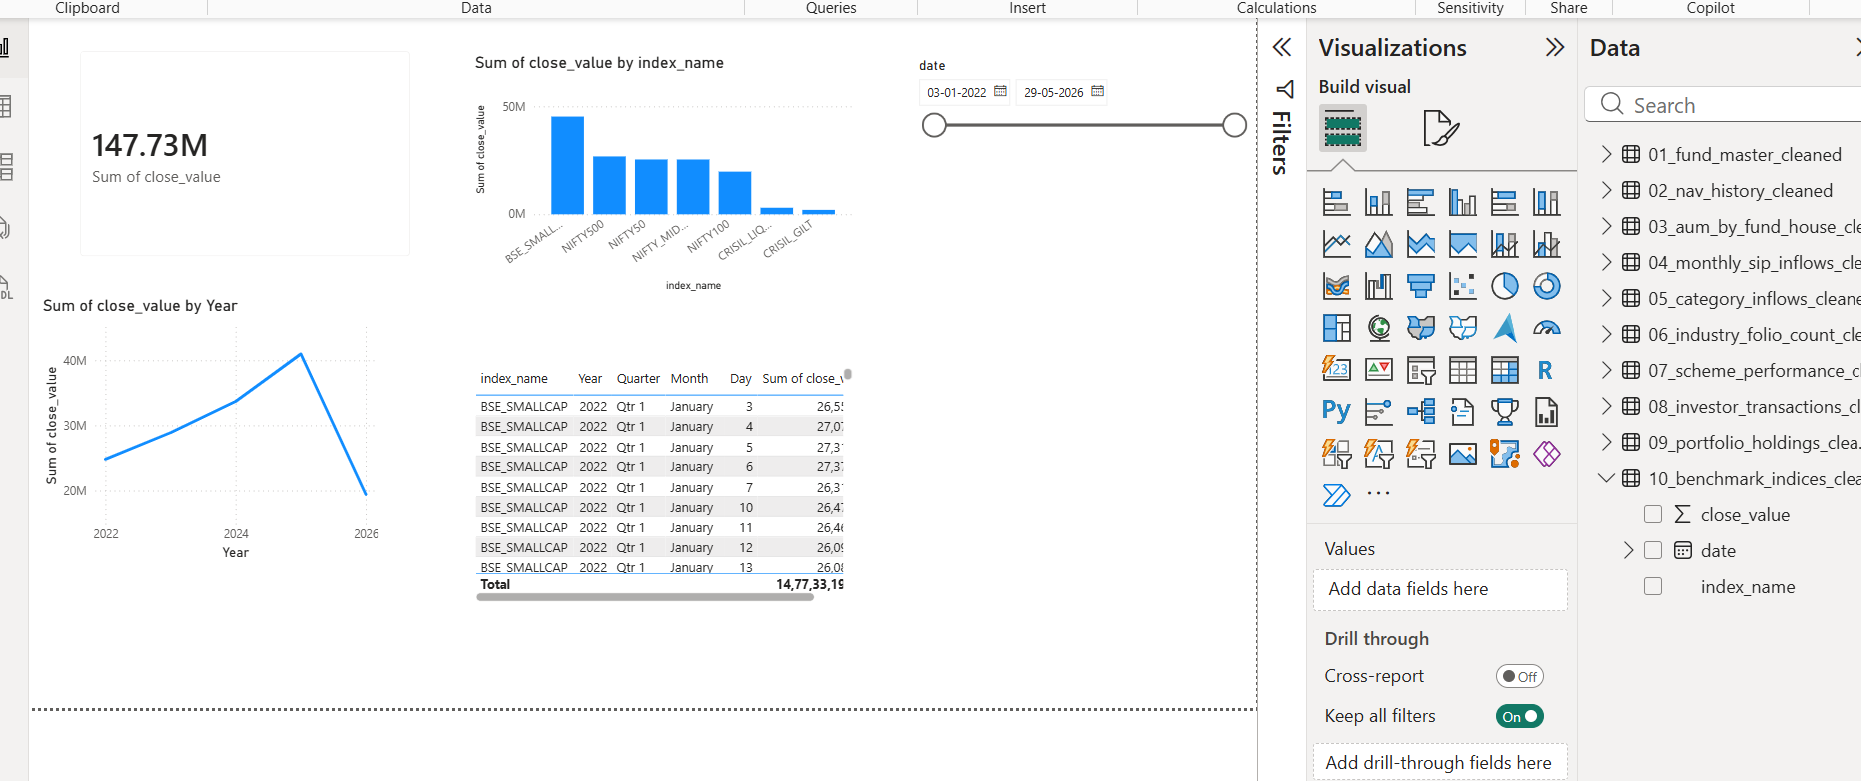

This screenshot's page, from the dashboard's own definition file:
{"tool":"powerbi","page":{"name":"BENCHMARK_ANALYSIS","canvas":[1280,720],"ordinal":4},"visuals":[{"type":"cardVisual","fields":{"Data":["Sum(10_benchmark_indices_cleaned.close_value)"]},"box":[36,17.2,378.5,248.7],"z":0},{"type":"lineChart","fields":{"Category":["10_benchmark_indices_cleaned.date.Variation.Date Hierarchy.Year","10_benchmark_indices_cleaned.date.Variation.Date Hierarchy.Quarter","10_benchmark_indices_cleaned.date.Variation.Date Hierarchy.Month","10_benchmark_indices_cleaned.date.Variation.Date Hierarchy.Day"],"Y":["Sum(10_benchmark_indices_cleaned.close_value)"]},"box":[9.4,289.4,359.8,280],"z":1},{"type":"clusteredColumnChart","fields":{"Category":["10_benchmark_indices_cleaned.index_name"],"Y":["Sum(10_benchmark_indices_cleaned.close_value)"]},"box":[459.9,36,403.6,253.4],"z":2},{"type":"tableEx","fields":{"Values":["10_benchmark_indices_cleaned.index_name","10_benchmark_indices_cleaned.date.Variation.Date Hierarchy.Year","10_benchmark_indices_cleaned.date.Variation.Date Hierarchy.Quarter","10_benchmark_indices_cleaned.date.Variation.Date Hierarchy.Month","10_benchmark_indices_cleaned.date.Variation.Date Hierarchy.Day","Sum(10_benchmark_indices_cleaned.close_value)"]},"box":[459.9,359.8,403.6,253.4],"z":3},{"type":"slicer","fields":{"Values":["10_benchmark_indices_cleaned.date"]},"box":[915,36,362.9,253.4],"z":4}]}

Visuals, with their boxes on the page's 1280x720 design canvas (x1, y1, x2, y2). These are canvas units, not pixel positions in the 1861x781 screenshot, which may show the page scaled, cropped or inside an application window:
cardVisual - Sum(10_benchmark_indices_cleaned.close_value): x1=36 y1=17 x2=414 y2=266
lineChart - 10_benchmark_indices_cleaned.date.Variation.Date Hierarchy.Year x 10_benchmark_indices_cleaned.date.Variation.Date Hierarchy.Quarter: x1=9 y1=289 x2=369 y2=569
clusteredColumnChart - 10_benchmark_indices_cleaned.index_name x Sum(10_benchmark_indices_cleaned.close_value): x1=460 y1=36 x2=864 y2=289
tableEx - 10_benchmark_indices_cleaned.index_name x 10_benchmark_indices_cleaned.date.Variation.Date Hierarchy.Year: x1=460 y1=360 x2=864 y2=613
slicer - 10_benchmark_indices_cleaned.date: x1=915 y1=36 x2=1278 y2=289
